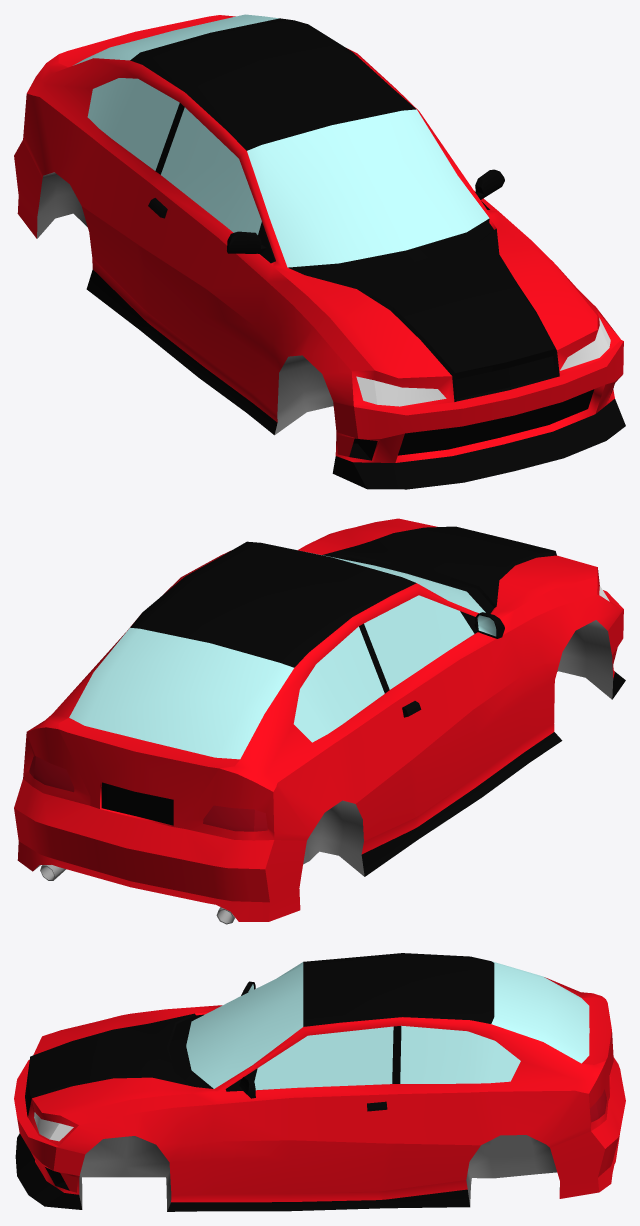
The model's file is s64_body_kit2.glb.
3 views of the same model, one above another, from view 1: azimuth 30°, elevation 25°; view 2: azimuth 150°, elevation 25°; view 3: azimuth 270°, elevation 25° (orthographic). The views are drawn at different scales.
Visible parts, largest first — view 1: Body_Kit2; view 2: Body_Kit2; view 3: Body_Kit2.
Part boxes in pixels (bbox=[...]): Body_Kit2: bbox=[14, 14, 625, 489]; Body_Kit2: bbox=[14, 518, 625, 924]; Body_Kit2: bbox=[14, 953, 625, 1211].
Bounding box in the file's own units: 1.69 × 1.25 × 3.95.
